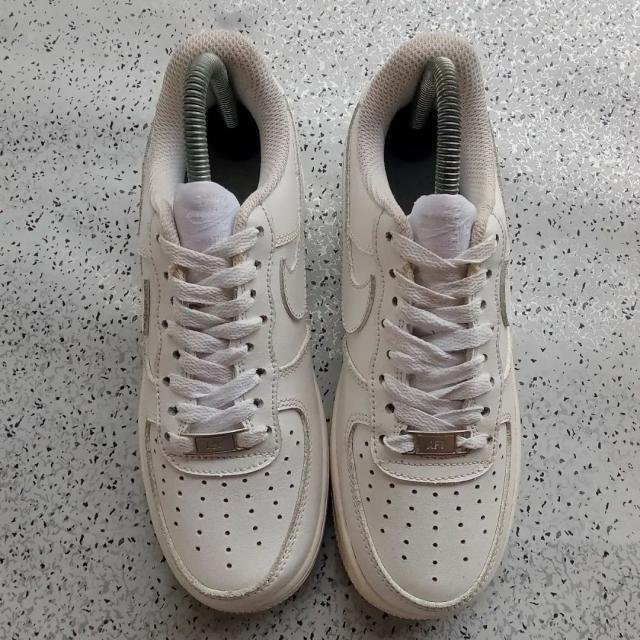nike original air force: (109, 0, 328, 630), (328, 12, 524, 634)
